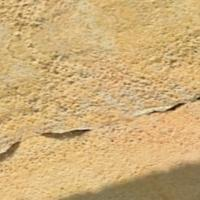crack: (1, 87, 199, 191)
